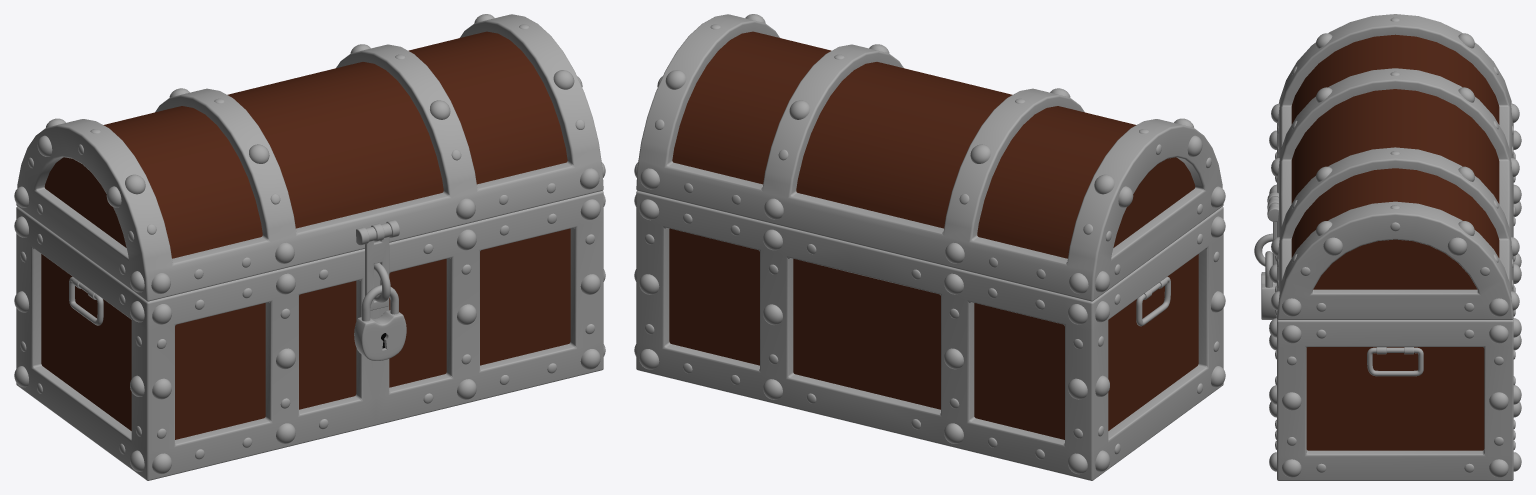
The model's file is viggo_kavermann_sintlucas_mv_schatkist.glb.
3 views of the same model, side by side, from view 1: azimuth 30°, elevation 25°; view 2: azimuth 150°, elevation 25°; view 3: azimuth 270°, elevation 25° (orthographic). The views are drawn at different scales.
Visible parts, largest first — view 1: Schatkist_Bodem_Metaal_MESH, Schatkist_Deksel_MESH, Schatkist_Top_Metaal_MESH, Schatkist_Bodem_MESH, Schatkist_Grote_&_Kleine_Spijkers_MESH_Schatkist_Metaal_MAT_, Schatkist_Slot_MESH, Schatkist_Slot_Plaat_MESH, Schatkist_Slot_Scharnier_MESH, Schatkist_Handvaten_MESH; view 2: Schatkist_Deksel_MESH, Schatkist_Bodem_Metaal_MESH, Schatkist_Bodem_MESH, Schatkist_Top_Metaal_MESH, Schatkist_Grote_&_Kleine_Spijkers_MESH_Schatkist_Metaal_MAT_, Schatkist_Handvaten_MESH; view 3: Schatkist_Top_Metaal_MESH, Schatkist_Deksel_MESH, Schatkist_Bodem_Metaal_MESH, Schatkist_Bodem_MESH, Schatkist_Grote_&_Kleine_Spijkers_MESH_Schatkist_Metaal_MAT_, Schatkist_Slot_MESH, Schatkist_Handvaten_MESH, Schatkist_Slot_Scharnier_MESH, Schatkist_Slot_Haak_MESH.
Part boxes in pixels (x1,y1,x2,y2): Schatkist_Bodem_Metaal_MESH: [16, 191, 603, 480]; Schatkist_Deksel_MESH: [44, 31, 567, 258]; Schatkist_Top_Metaal_MESH: [16, 14, 603, 301]; Schatkist_Bodem_MESH: [41, 228, 570, 439]; Schatkist_Grote_&_Kleine_Spijkers_MESH_Schatkist_Metaal_MAT_: [14, 14, 605, 474]; Schatkist_Slot_MESH: [354, 285, 406, 360]; Schatkist_Slot_Plaat_MESH: [365, 237, 389, 310]; Schatkist_Slot_Scharnier_MESH: [356, 220, 399, 245]; Schatkist_Handvaten_MESH: [69, 276, 103, 325]; Schatkist_Deksel_MESH: [672, 31, 1195, 258]; Schatkist_Bodem_Metaal_MESH: [636, 191, 1223, 480]; Schatkist_Bodem_MESH: [669, 228, 1198, 439]; Schatkist_Top_Metaal_MESH: [636, 14, 1223, 301]; Schatkist_Grote_&_Kleine_Spijkers_MESH_Schatkist_Metaal_MAT_: [634, 14, 1225, 474]; Schatkist_Handvaten_MESH: [1136, 276, 1170, 326]; Schatkist_Top_Metaal_MESH: [1277, 14, 1513, 319]; Schatkist_Deksel_MESH: [1291, 34, 1499, 289]; Schatkist_Bodem_Metaal_MESH: [1277, 123, 1513, 480]; Schatkist_Bodem_MESH: [1306, 347, 1484, 450]; Schatkist_Grote_&_Kleine_Spijkers_MESH_Schatkist_Metaal_MAT_: [1269, 33, 1521, 477]; Schatkist_Slot_MESH: [1261, 251, 1276, 319]; Schatkist_Handvaten_MESH: [1367, 347, 1423, 376]; Schatkist_Slot_Scharnier_MESH: [1267, 192, 1278, 221]; Schatkist_Slot_Haak_MESH: [1254, 233, 1272, 266].
Bounding box in the file's own units: 1.56 × 0.9491 × 0.8536.
